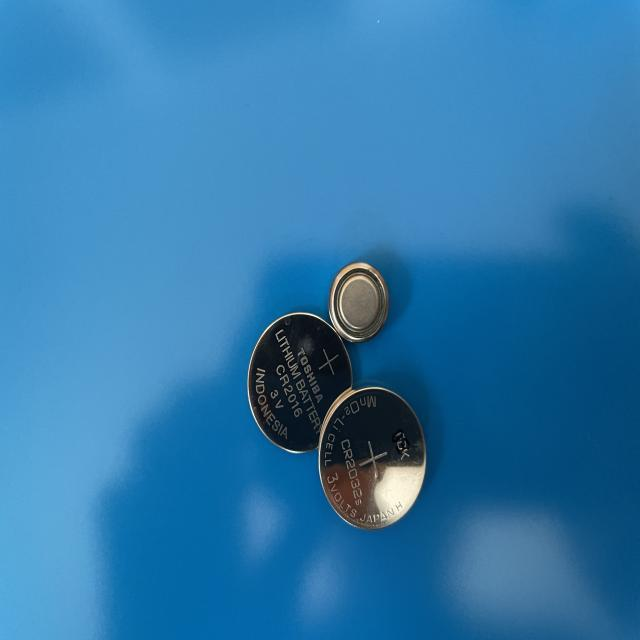COIN: (318, 387, 426, 534), (245, 312, 353, 453), (326, 256, 390, 347)
